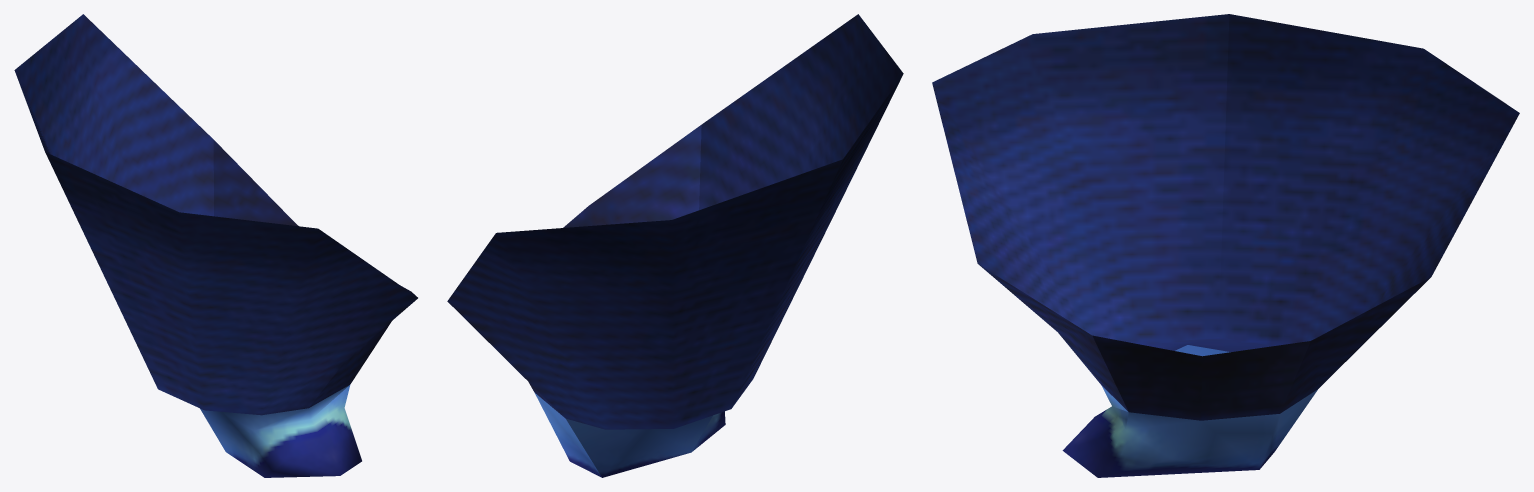
Rendered from PiernaDer_T.obj.
3 renders of one model, left to right at view 1: azimuth 30°, elevation 25°; view 2: azimuth 150°, elevation 25°; view 3: azimuth 270°, elevation 25°, orthographic. The views are drawn at different scales.
Visible parts, largest first — view 1: PiernaDer_T; view 2: PiernaDer_T; view 3: PiernaDer_T.
Boxes of the visible parts, <box> form: PiernaDer_T: <box>14,14,417,477</box>; PiernaDer_T: <box>447,14,903,477</box>; PiernaDer_T: <box>932,14,1519,477</box>.
Bounding box in the file's own units: 5.55 × 5.6 × 8.86.
